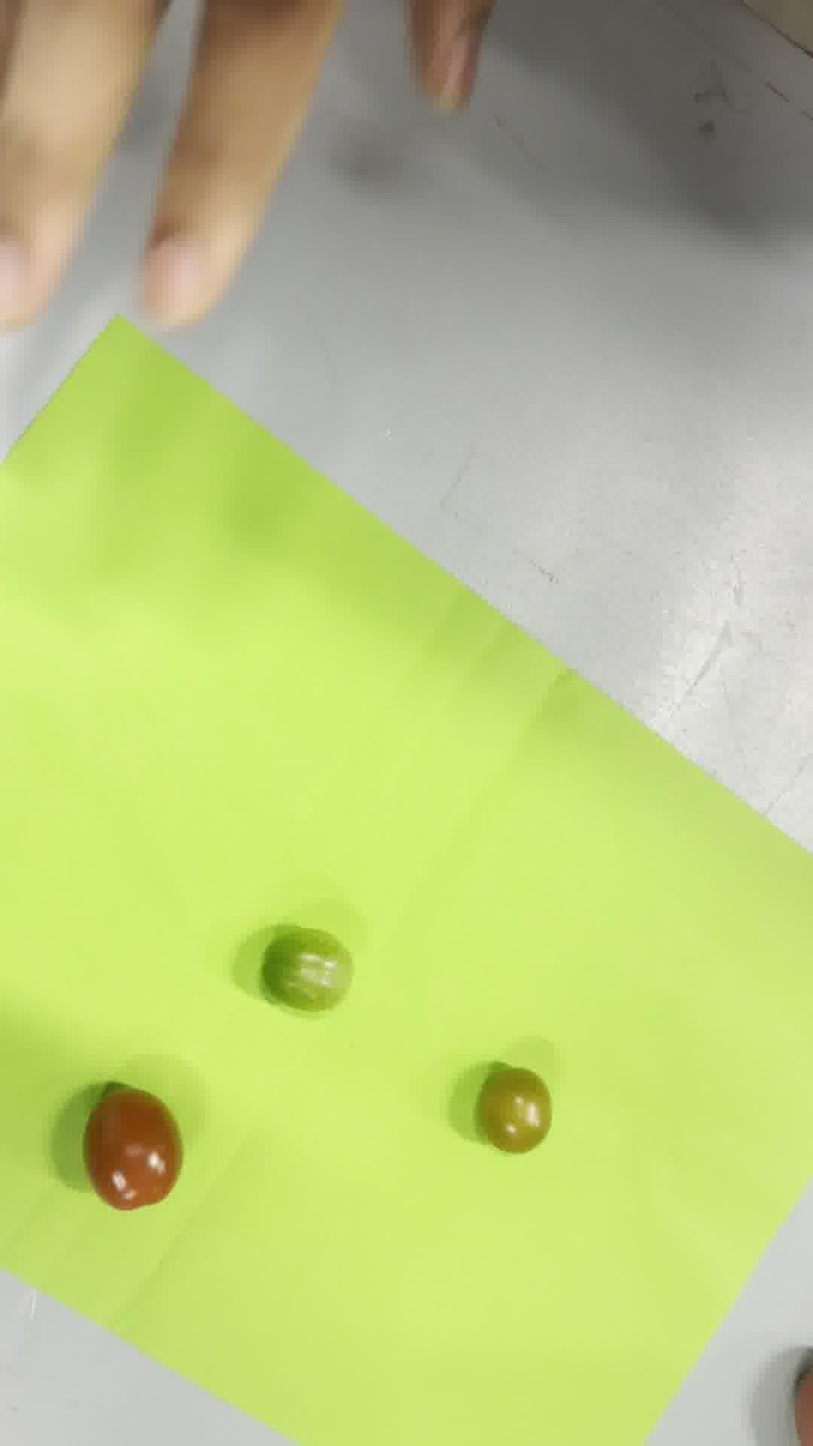green_cherry_tomato: (263, 927, 352, 1011)
red_cherry_tomato: (84, 1089, 181, 1210)
yellow_cherry_tomato: (477, 1067, 551, 1153)
